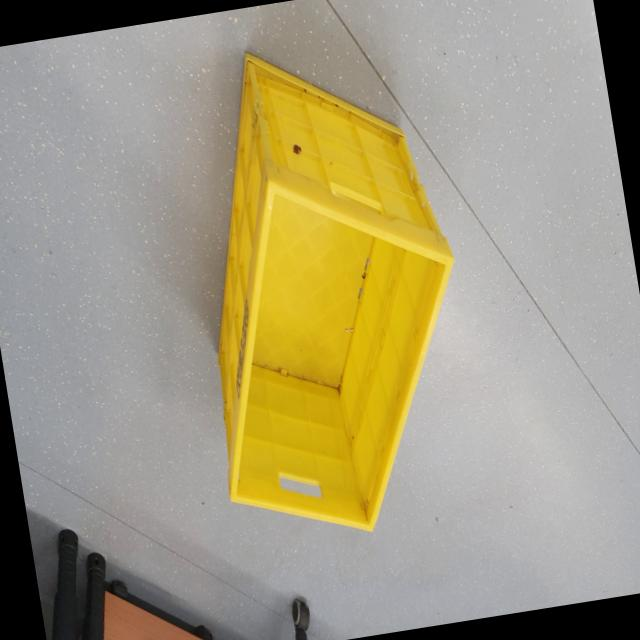box: (144, 1, 502, 584)
